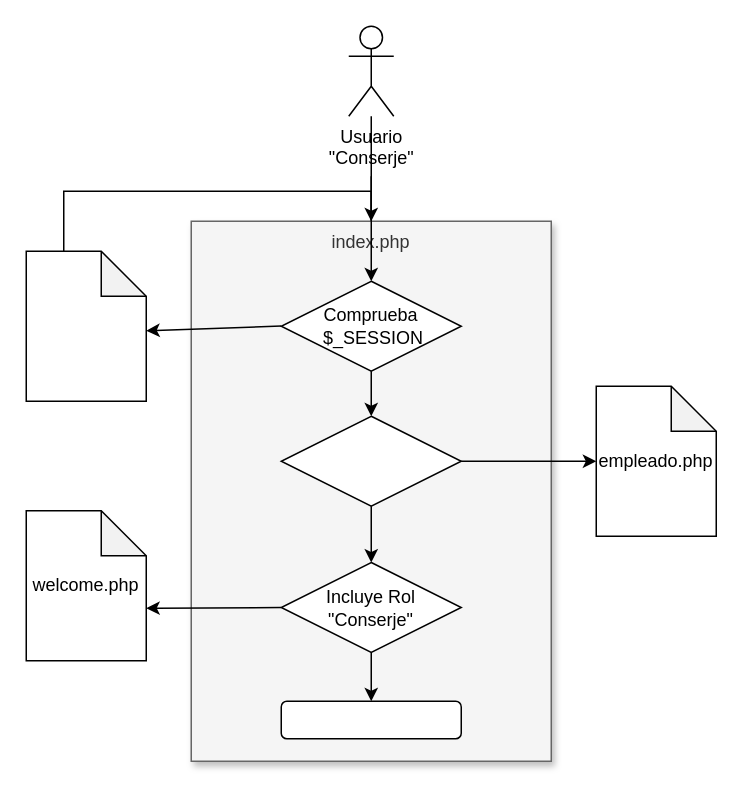
The diagram is 743 pixels wide and 798 high, and some of its shapes have lost their labels. The centre of each missing label's shape, as x and y in pixels:
Incluye Rol "Empleado": pixel 370 460
login.php: pixel 85 325
Muestra error: pixel 370 719
